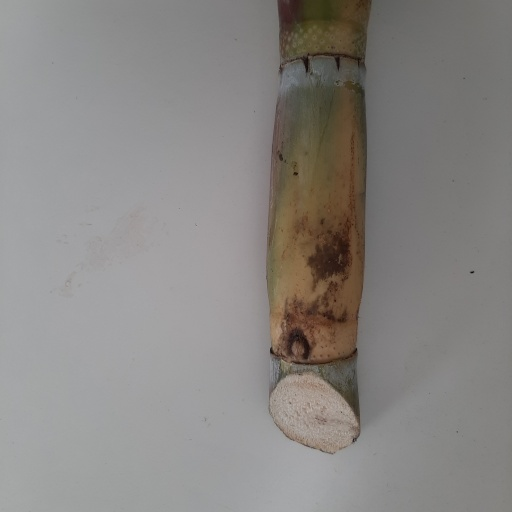Bud: (289, 338, 310, 363)
